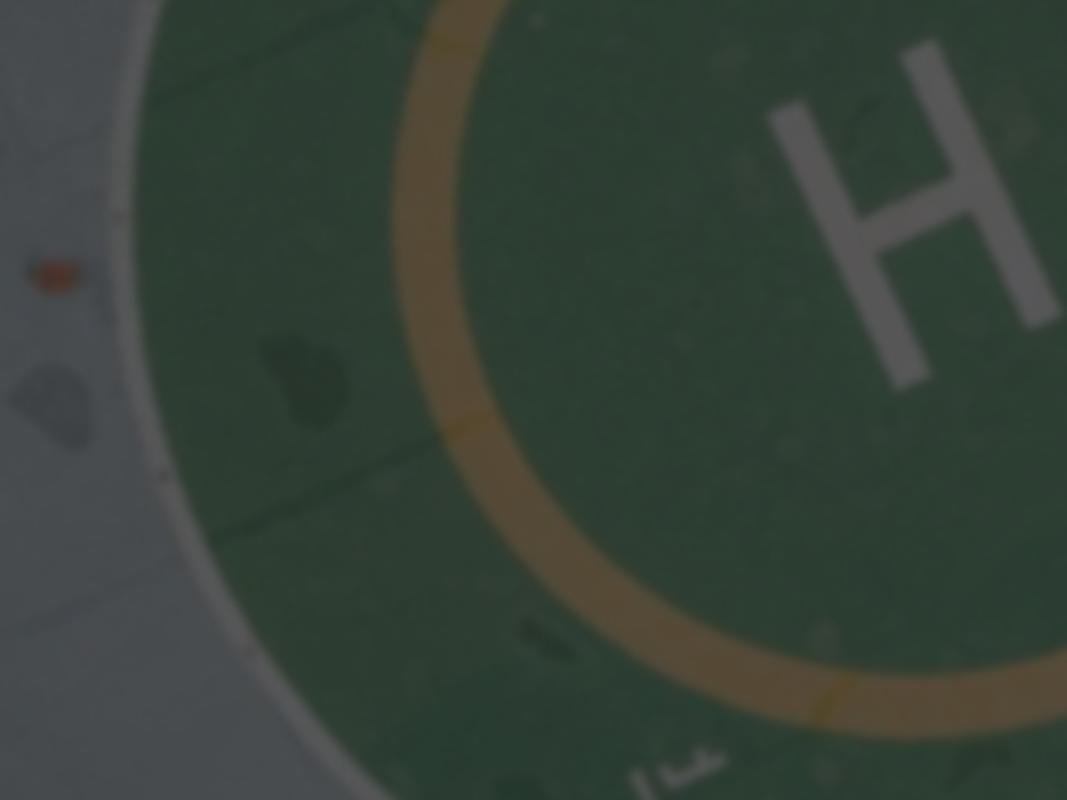Apron: (421, 33, 1067, 721)
